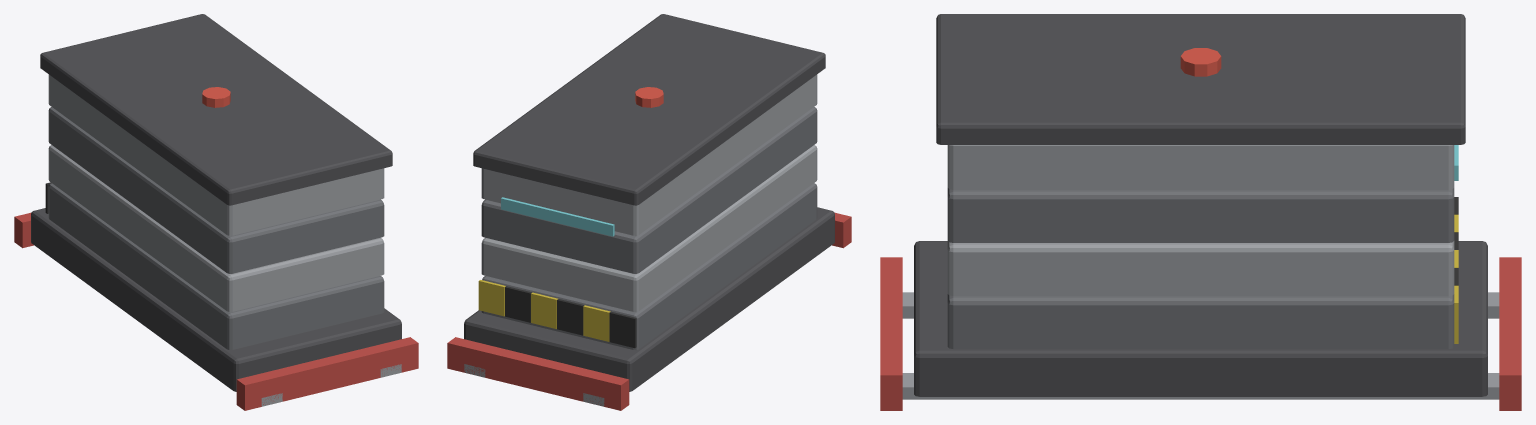
Rendered from rn2-fabrica-amb.glb.
3 renders of one model, left to right at view 1: azimuth 30°, elevation 25°; view 2: azimuth 150°, elevation 25°; view 3: azimuth 270°, elevation 25°, orthographic. The views are drawn at different scales.
Parts seen in each view (by area): view 1: rn2_fabrica_amb_body, rn2_fabrica_amb_glow; view 2: rn2_fabrica_amb_body, rn2_fabrica_amb_glow; view 3: rn2_fabrica_amb_body, rn2_fabrica_amb_glow.
Part boxes in pixels (x1,y1,x2,y2): rn2_fabrica_amb_body: (14, 14, 418, 410); rn2_fabrica_amb_glow: (202, 87, 230, 107); rn2_fabrica_amb_body: (447, 14, 851, 410); rn2_fabrica_amb_glow: (501, 87, 663, 236); rn2_fabrica_amb_body: (880, 14, 1521, 410); rn2_fabrica_amb_glow: (1180, 48, 1458, 180).
Size of the model in its own units: 2.48 by 2.9 by 5.7.
